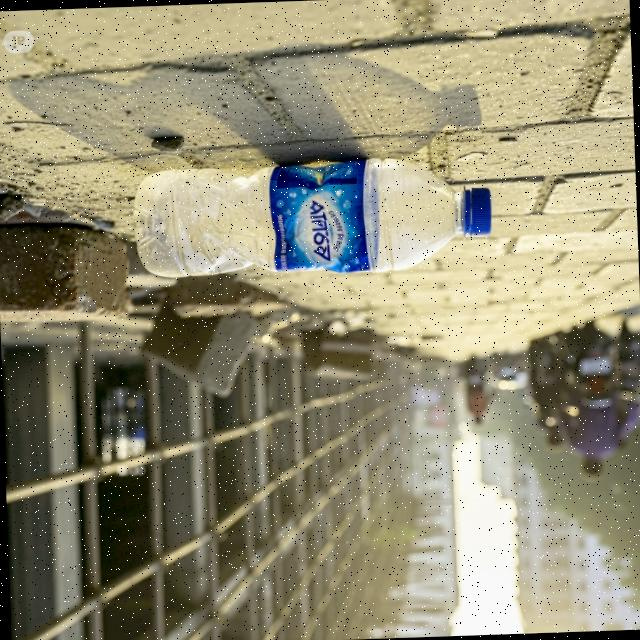plastic: (128, 151, 498, 287)
